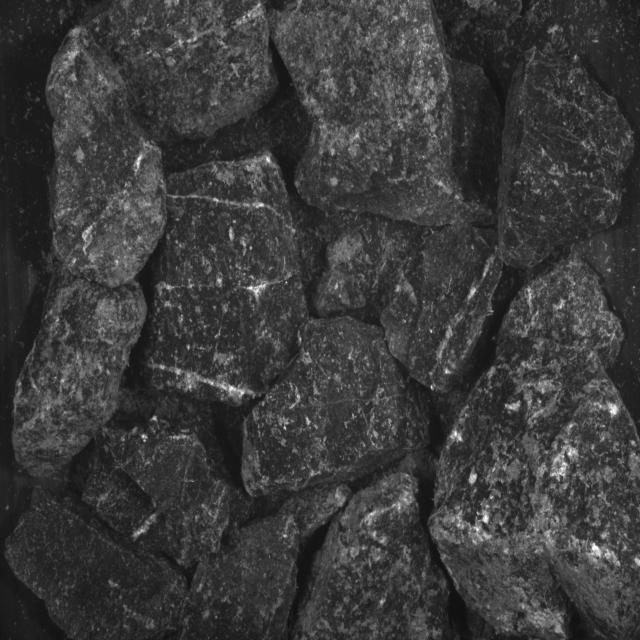Stones: (431, 259, 640, 639), (271, 1, 501, 227), (146, 153, 307, 406), (242, 317, 430, 498), (315, 215, 504, 393), (47, 28, 167, 289), (500, 50, 635, 268), (84, 397, 249, 569), (84, 1, 279, 143), (6, 490, 187, 640), (14, 273, 147, 477), (181, 485, 352, 640), (295, 474, 451, 640), (500, 257, 625, 368)
